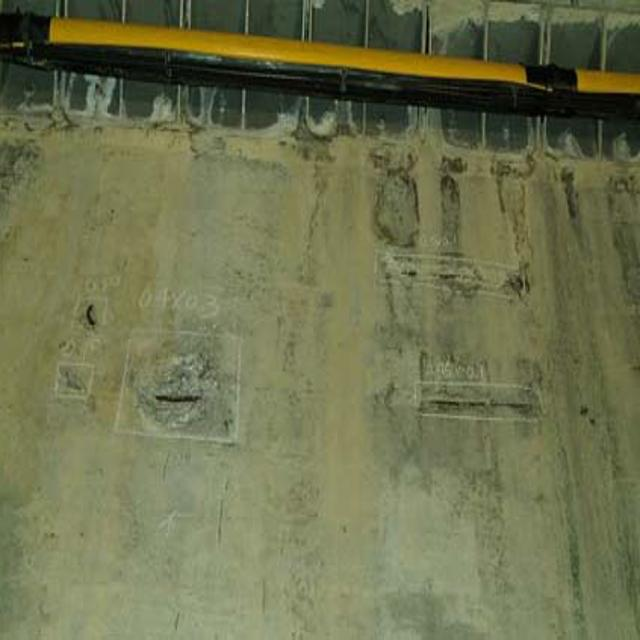spalling: (53, 294, 244, 457), (382, 360, 548, 440), (367, 250, 536, 306)
